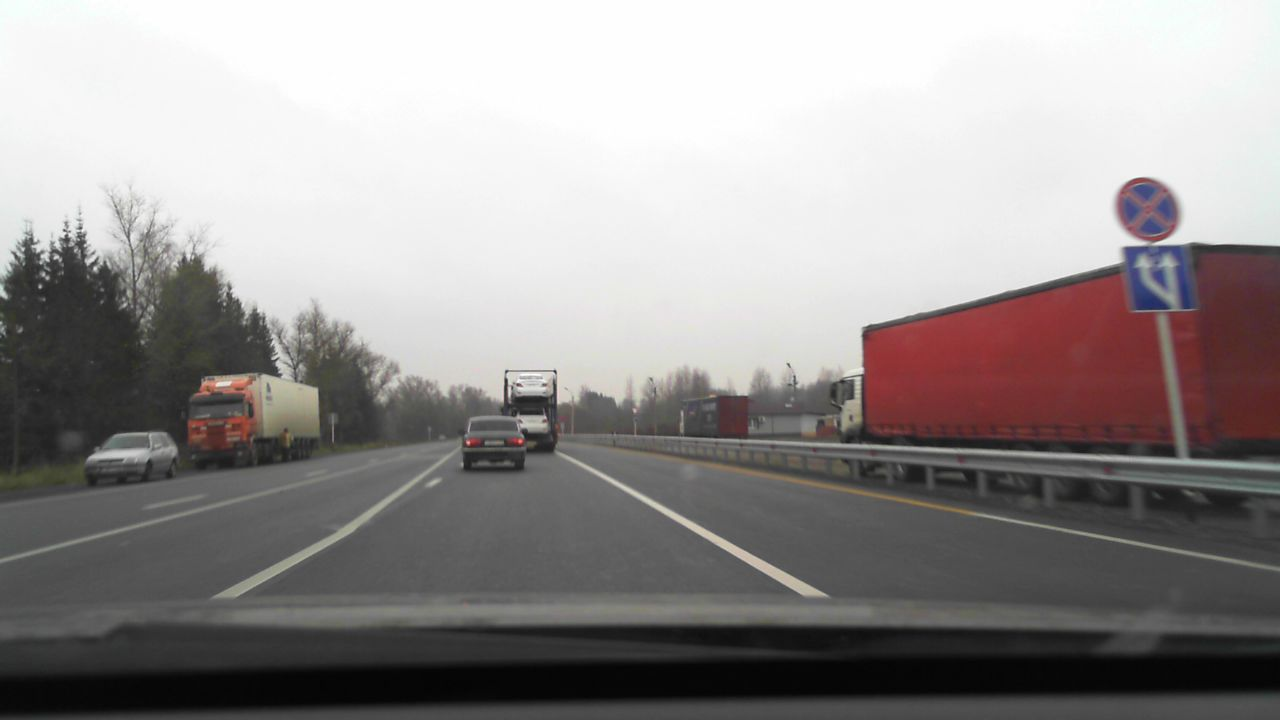No Parking: (1115, 176, 1179, 242)
